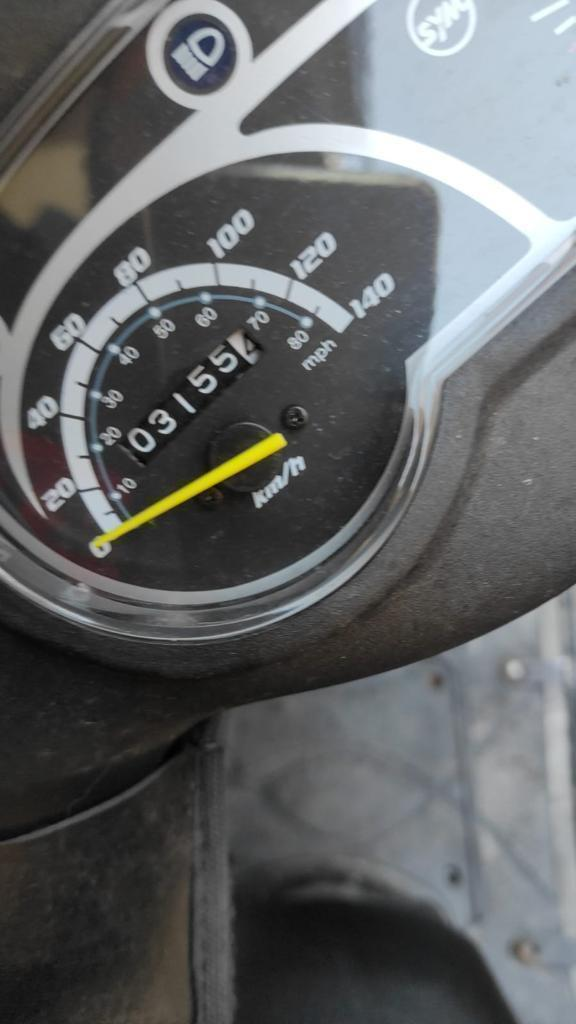0: (125, 426, 157, 453), (123, 344, 141, 358), (160, 318, 178, 332), (108, 388, 126, 402), (105, 424, 122, 438)
1: (167, 390, 201, 418)
3: (143, 408, 179, 434)
4: (240, 331, 266, 359), (118, 352, 134, 366)
5: (183, 362, 221, 395), (206, 345, 239, 375), (151, 324, 169, 341)
7: (246, 317, 260, 331)
odometer: (110, 323, 268, 472)
